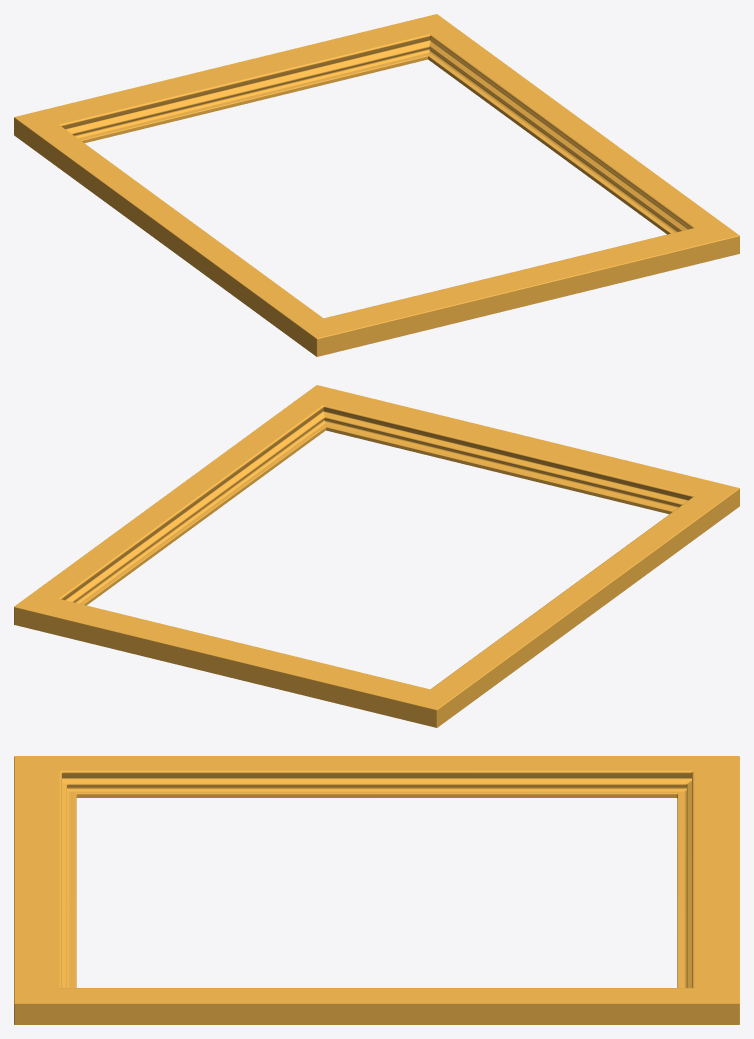
Rendered from Frame.gltf.
3 views of the same model, one above another, from view 1: azimuth 30°, elevation 25°; view 2: azimuth 150°, elevation 25°; view 3: azimuth 270°, elevation 25° (orthographic). The views are drawn at different scales.
Parts seen in each view (by area): view 1: Plane.003; view 2: Plane.003; view 3: Plane.003.
Boxes of the visible parts, x1=… form: Plane.003: x1=14, y1=14, x2=739, y2=356; Plane.003: x1=14, y1=385, x2=739, y2=727; Plane.003: x1=14, y1=756, x2=739, y2=1024.
Size of the model in its own units: 4.87 by 0.2 by 6.04.
